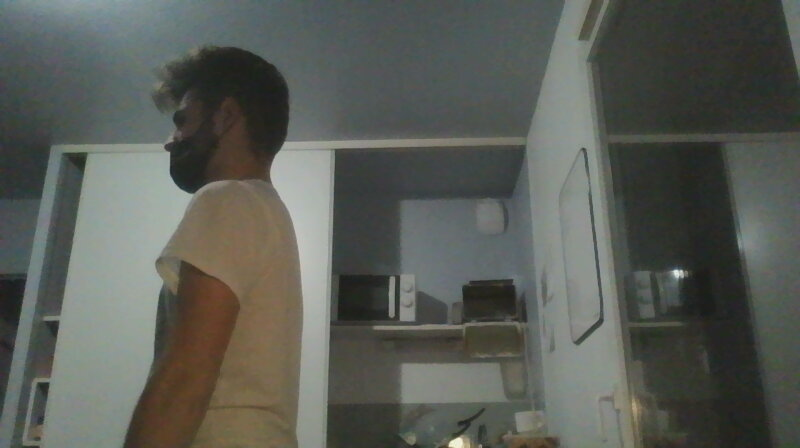with_incorrect_mask: (159, 89, 231, 191)
